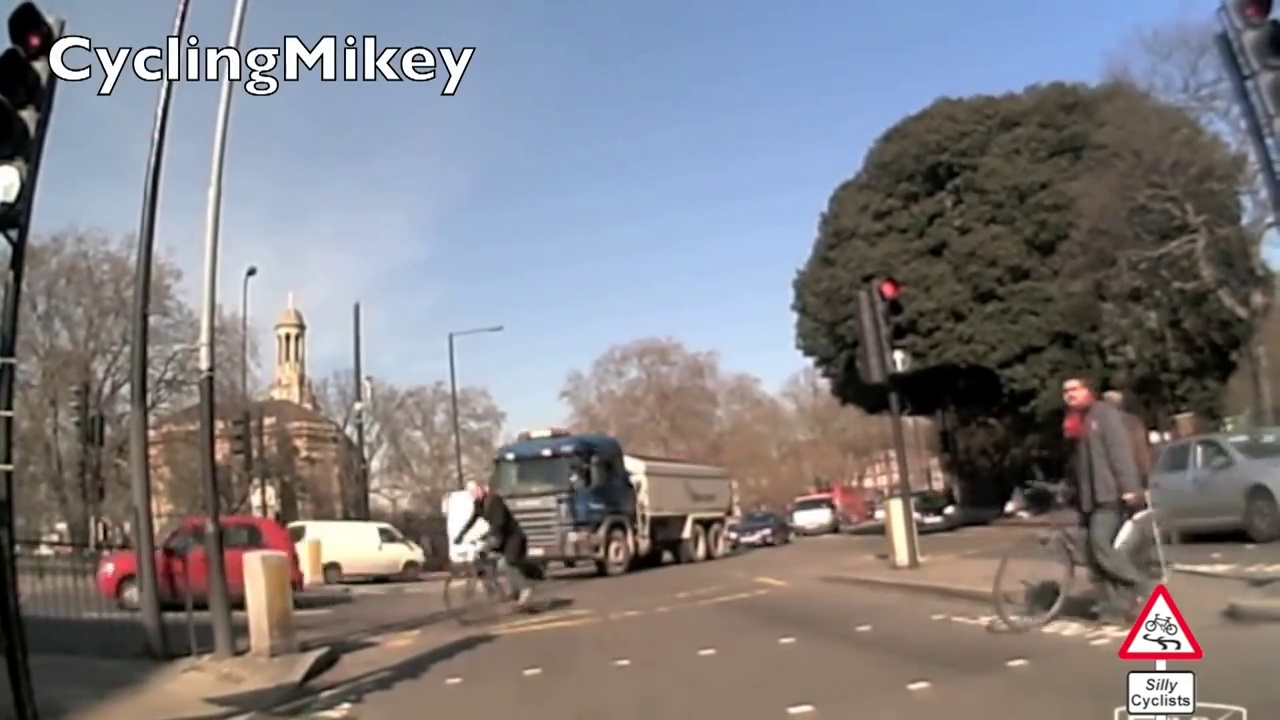cyclist_side: (990, 367, 1126, 640), (437, 475, 550, 634)
